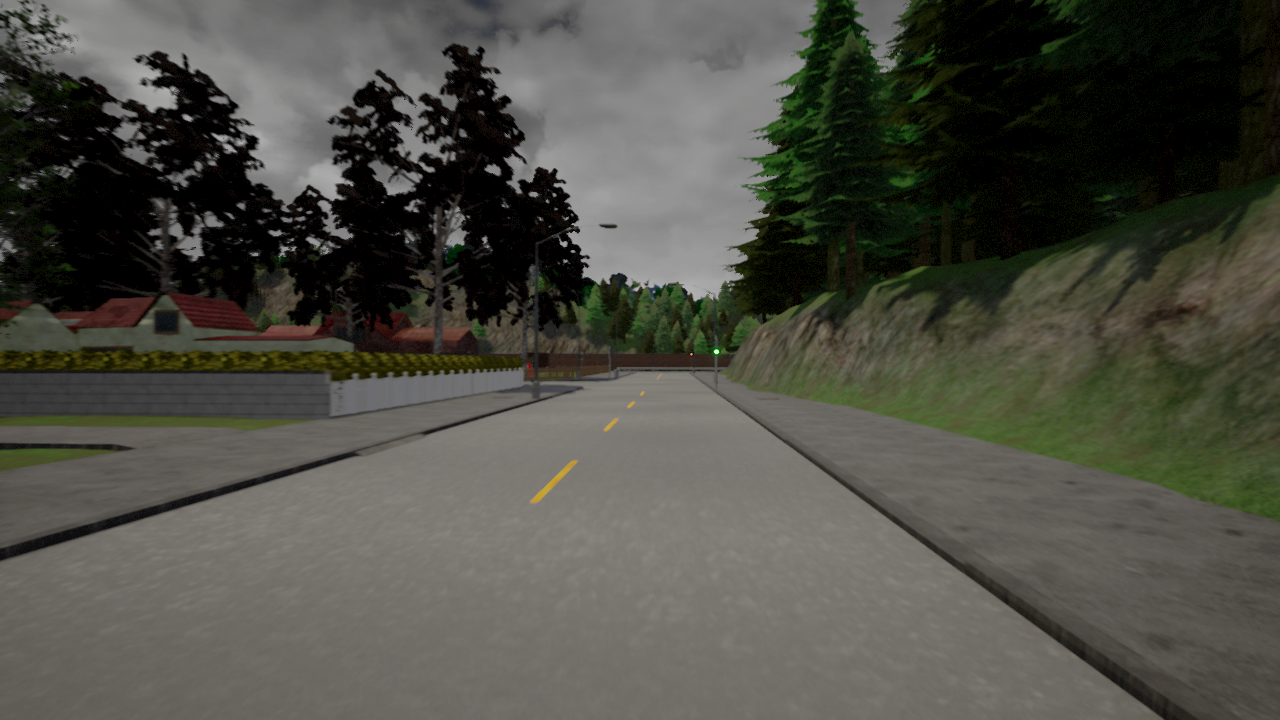green: (712, 339, 720, 355)
